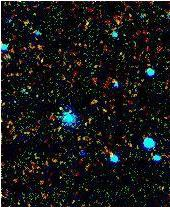star: (47, 93, 77, 123)
